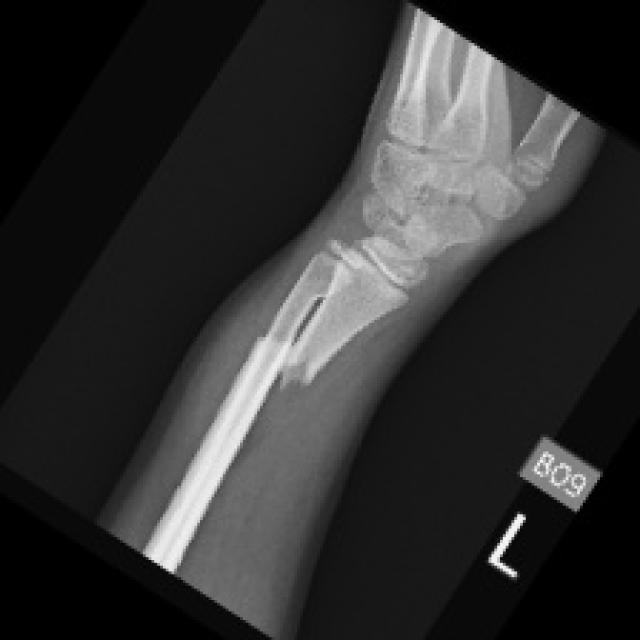fracture: (245, 326, 355, 424)
